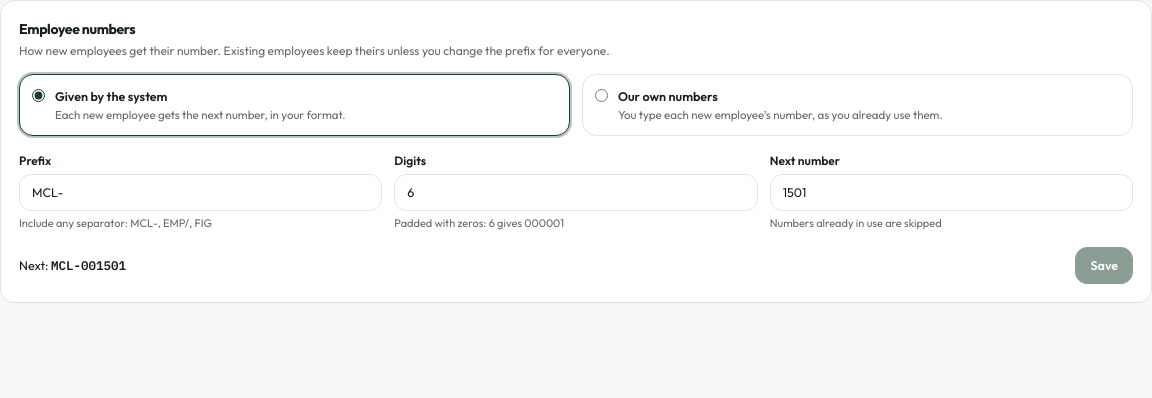
Employee numbers card › shows the system format with a live preview of the next number
This screenshot has width=1152, height=398.
Expected: the text "MCL-001501" is shown, [51, 257, 126, 273]
Expected: the radio button labelled "Given by the system" is checked, [32, 89, 45, 102]
Replace the text in the field labelled "Prefix Include any separator: MCL-, EMP/, FIG" with "EMP/": (201, 192) [19, 174, 382, 211]
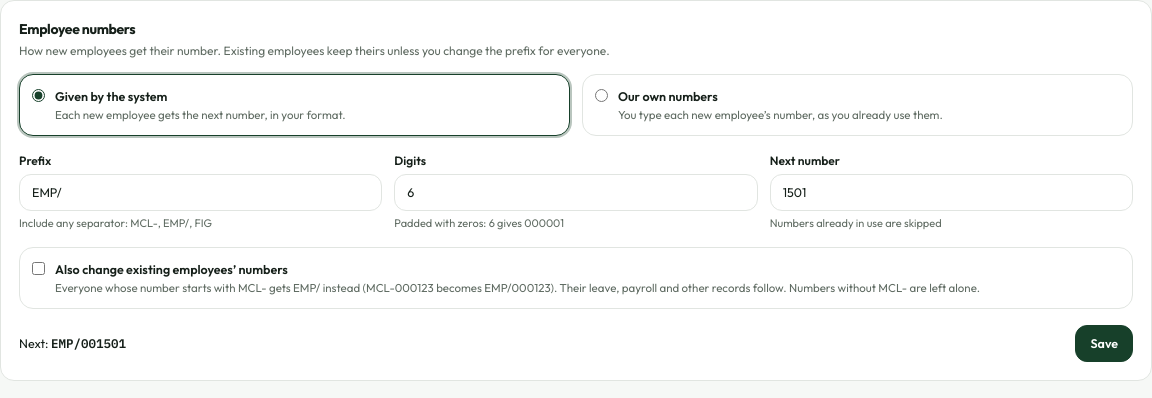
Replace the text in the number field labelled "Digits Padded with zeros: 6 gives 000001" with "4": (576, 192) [394, 174, 758, 211]
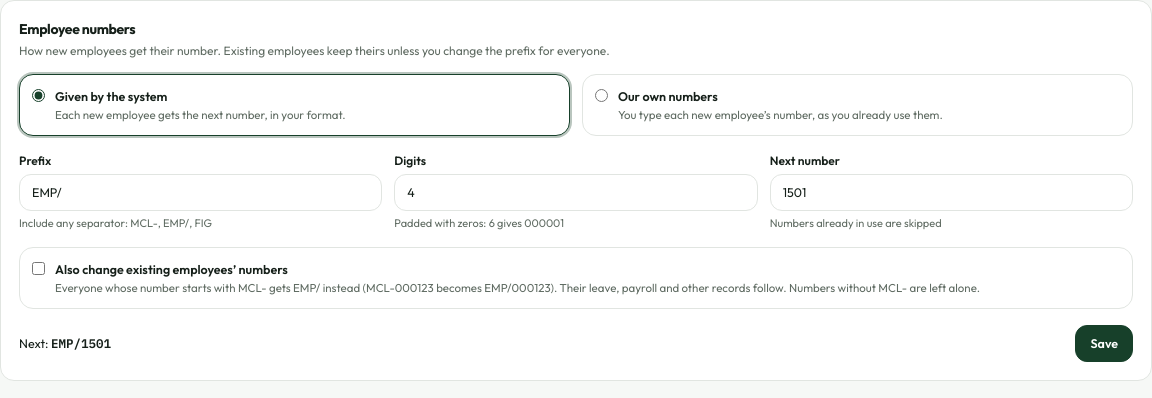
Result: the text "EMP/1501" is shown at [51, 335, 111, 351]
